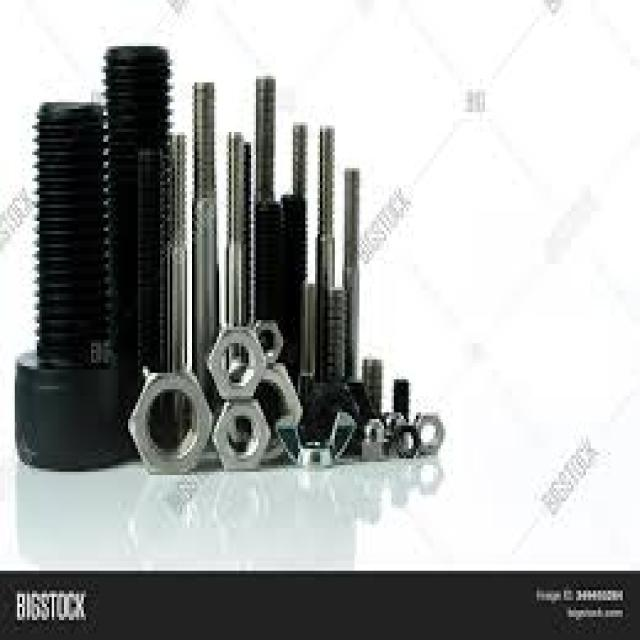metal: (12, 103, 123, 469), (101, 43, 167, 458), (190, 76, 217, 416), (123, 369, 209, 472), (165, 132, 185, 442), (136, 145, 158, 376), (251, 73, 271, 327), (305, 379, 374, 452), (281, 188, 305, 386), (251, 363, 298, 462), (202, 323, 263, 399), (315, 125, 332, 376), (224, 129, 244, 340), (273, 409, 350, 462), (254, 198, 281, 340), (209, 399, 266, 465), (342, 165, 357, 386), (293, 119, 305, 366), (241, 139, 251, 327), (328, 287, 345, 383), (298, 280, 313, 373), (251, 317, 281, 363), (411, 409, 441, 452), (359, 356, 379, 416), (360, 416, 382, 455), (392, 426, 419, 452), (382, 409, 404, 439), (392, 376, 407, 412)
